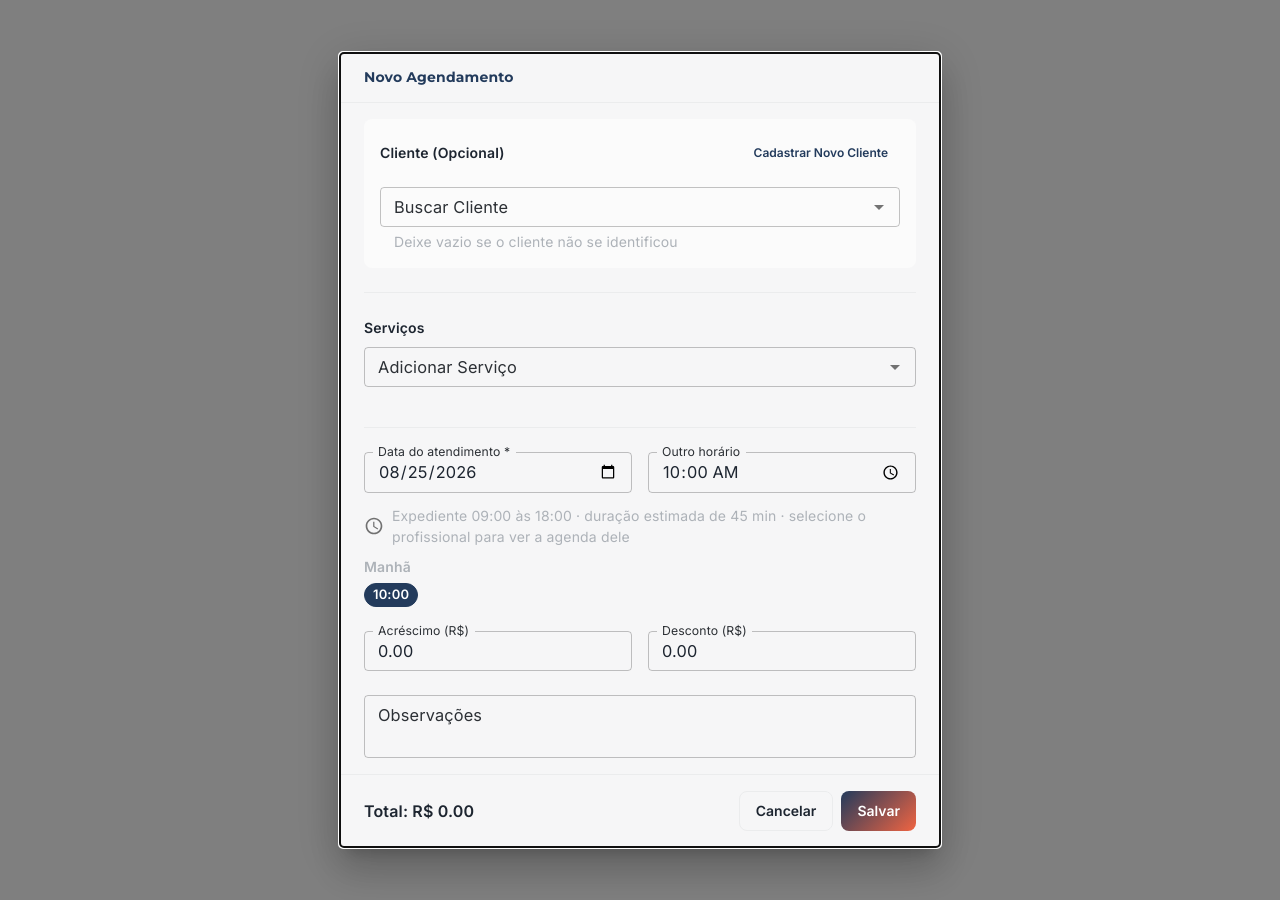
it: NewAppointmentModal Component › validates that at least one service must be selected before submitting
The width and height of the screenshot is (1280, 900).
Expected: the heading "Novo Agendamento" is shown, [364,68,514,86]
Click the button "Salvar".
click(879, 811)  # box [841,791,916,831]
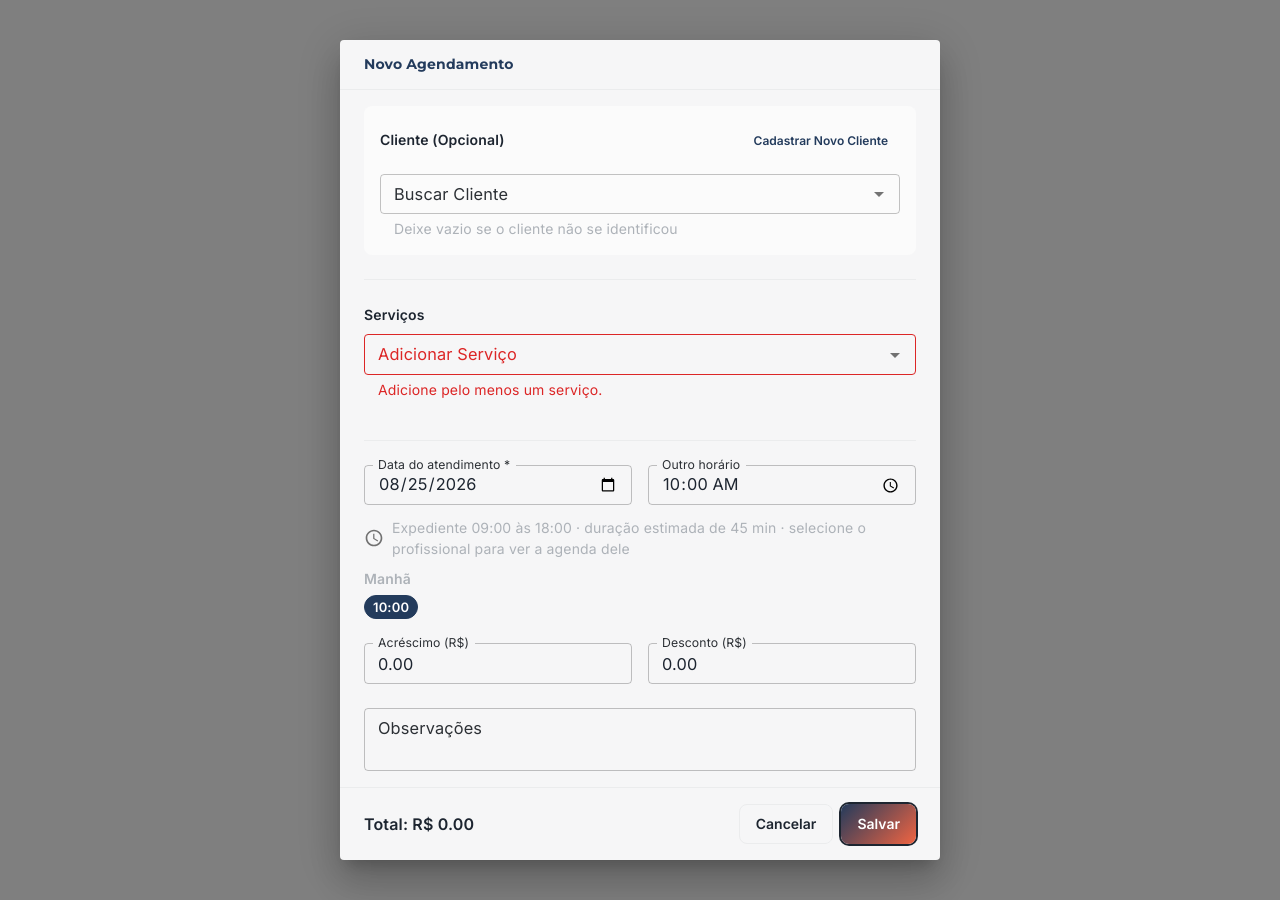
Now the text "Adicione pelo menos um serviço." is shown, box [378,381,602,398]
